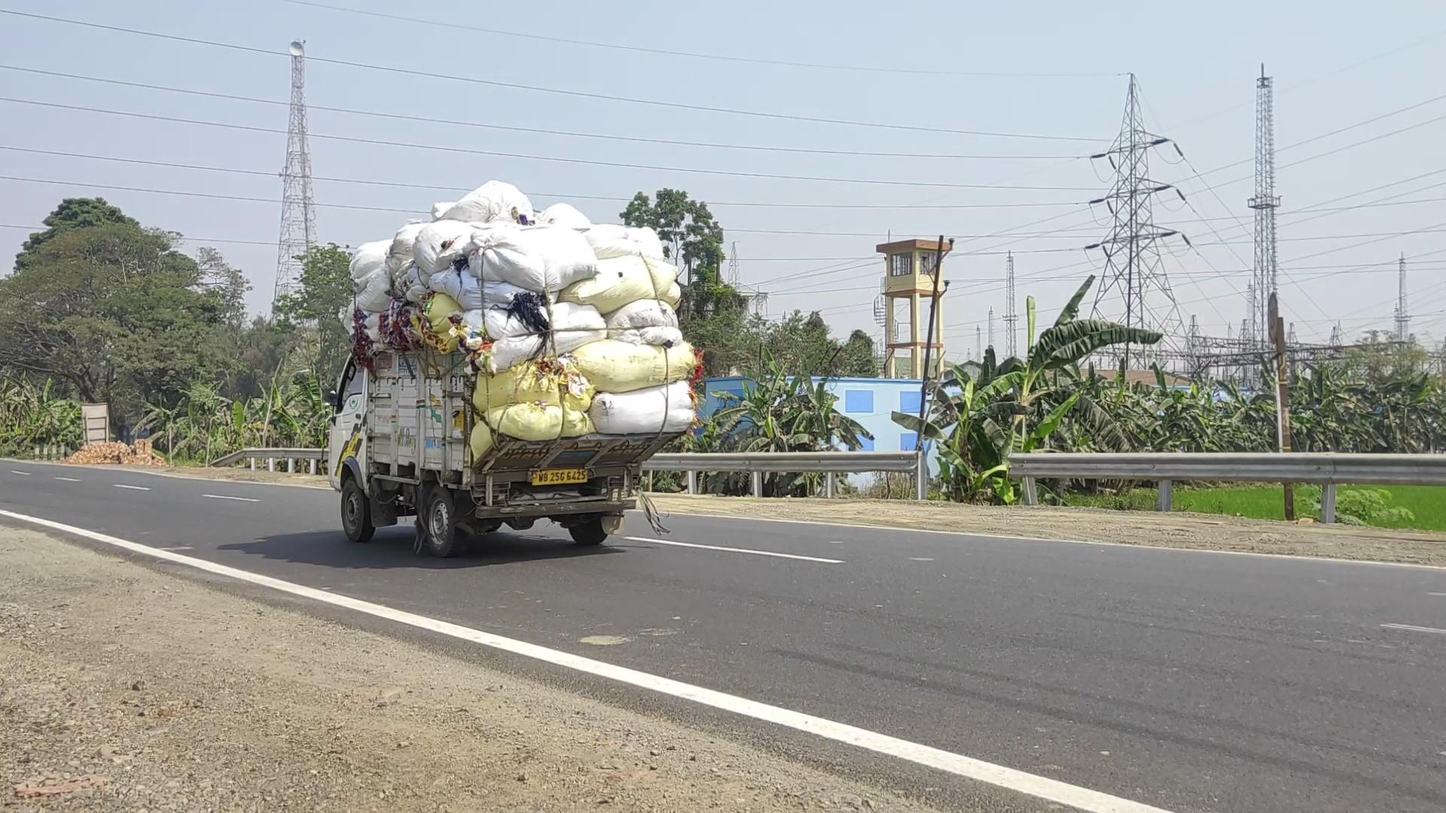van: (322, 182, 701, 558)
